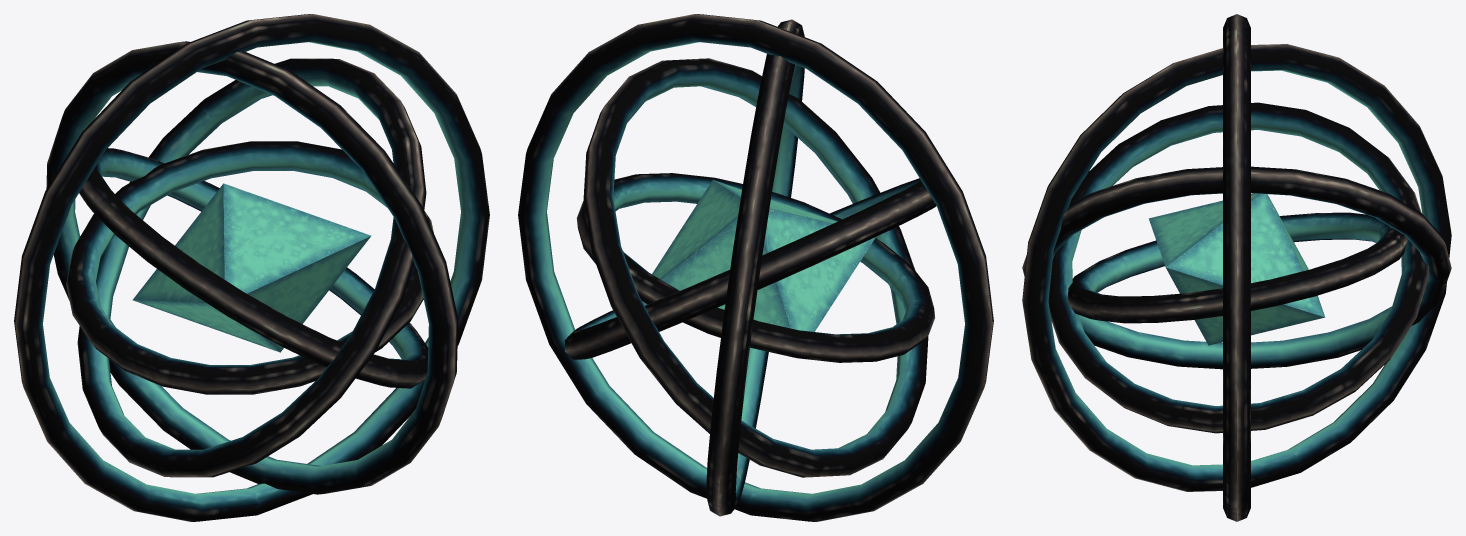
The model's file is weapon_projectile_shield.fbx.
The picture shows the model from 3 angles, left to right: view 1: azimuth 30°, elevation 25°; view 2: azimuth 150°, elevation 25°; view 3: azimuth 270°, elevation 25°; orthographic projection. The views are drawn at different scales.
Parts seen in each view (by area): view 1: Artifact08; view 2: Artifact08; view 3: Artifact08.
Part boxes in pixels (bbox=[...]): Artifact08: bbox=[14, 14, 489, 521]; Artifact08: bbox=[518, 14, 993, 521]; Artifact08: bbox=[1022, 14, 1451, 521].
Size of the model in its own units: 298 by 298 by 251.
